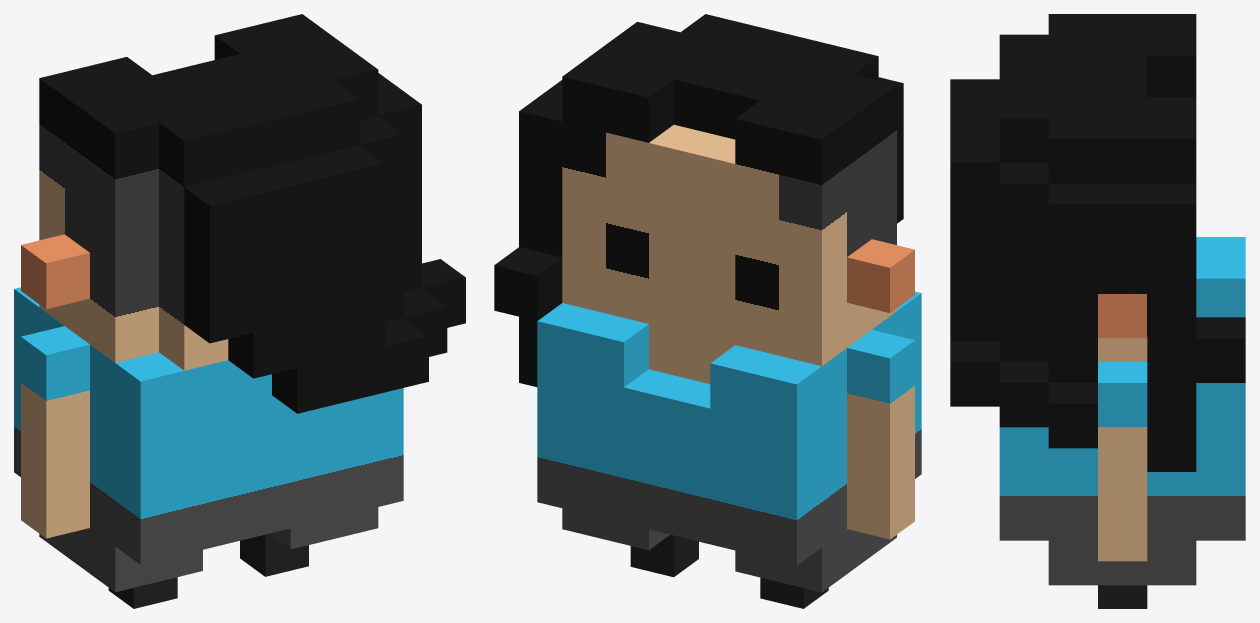
File: chr_lady2.dae
3 views of the same model, side by side, from view 1: azimuth 30°, elevation 25°; view 2: azimuth 150°, elevation 25°; view 3: azimuth 270°, elevation 25° (orthographic). The views are drawn at different scales.
Parts seen in each view (by area): view 1: chr_lady2; view 2: chr_lady2; view 3: chr_lady2.
Part boxes in pixels (x1,y1,x2,y2): chr_lady2: (14,14,465,608); chr_lady2: (494,14,921,608); chr_lady2: (950,14,1245,608).
Size of the model in its own units: 0.9 by 0.6 by 1.1.
